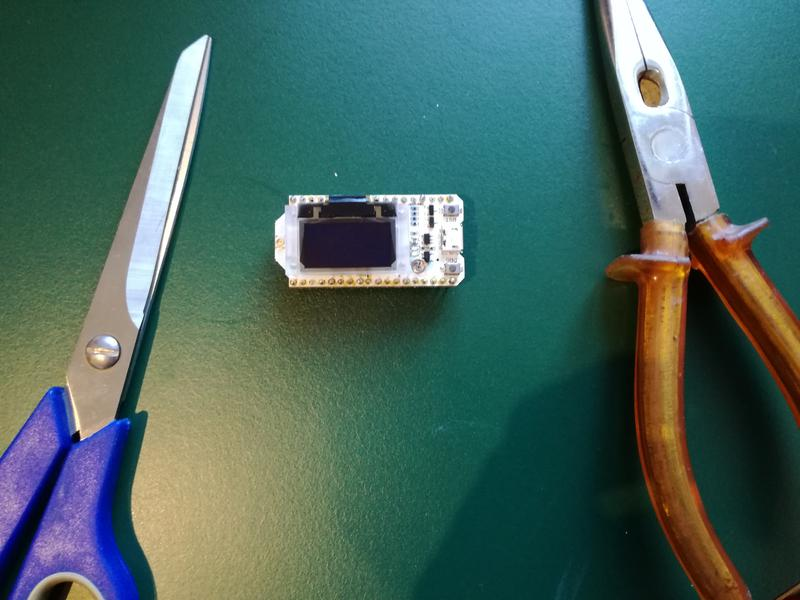Heltec_ESP32_Lora: (269, 186, 474, 293)
